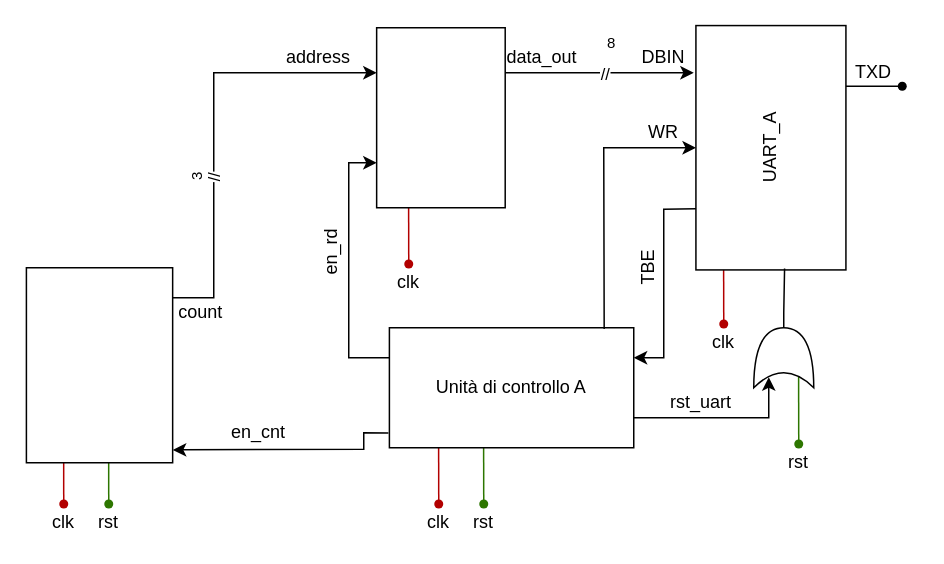
Image size: 944x564. Some labels were removed from this diagram. The centre of each missing label's shape, as x and y in pixels:
"Counter mod_8" belongs at (x=99, y=364).
"ROM" belongs at (x=440, y=117).
